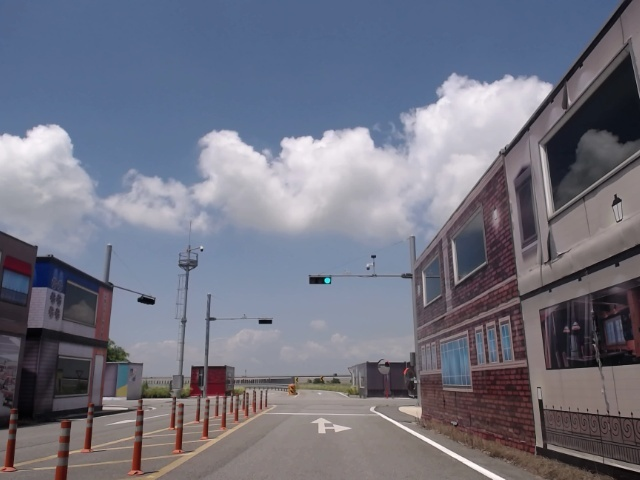green_3: (310, 277, 331, 284)
